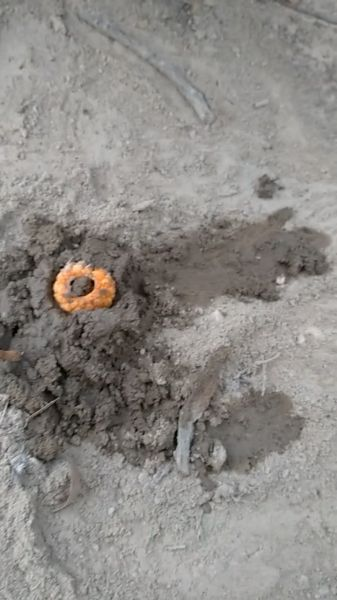eggs: (49, 250, 120, 321)
